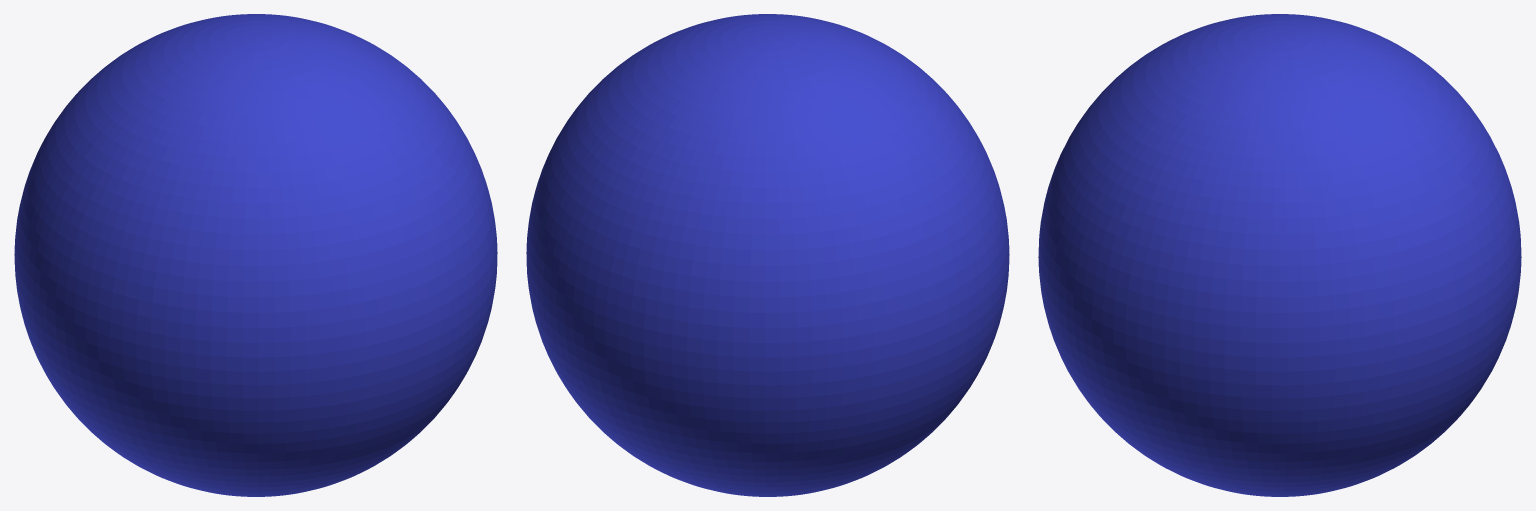
3 renders of one model, left to right at view 1: azimuth 30°, elevation 25°; view 2: azimuth 150°, elevation 25°; view 3: azimuth 270°, elevation 25°, orthographic.
Parts seen in each view (by area): view 1: node_id3; view 2: node_id3; view 3: node_id3.
Boxes of the visible parts, box(x1,y1,x2,y2) form: node_id3: box(14, 14, 497, 496); node_id3: box(526, 14, 1009, 496); node_id3: box(1038, 14, 1521, 496).
Bounding box in the file's own units: 0.512 × 0.512 × 0.5119.
1 material, 1 textured.
